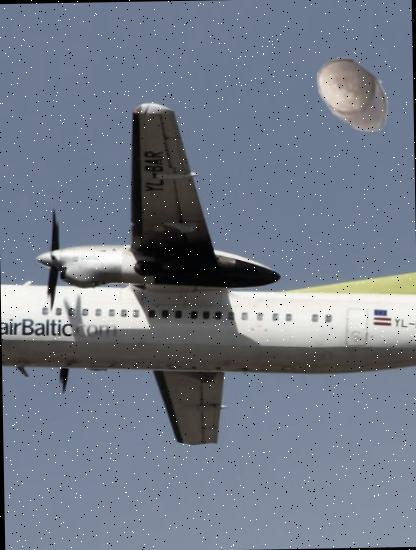Hazelnut: (308, 51, 398, 142)
